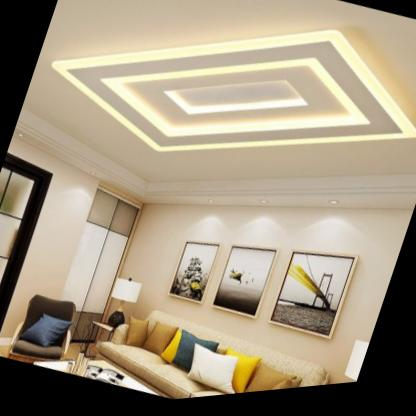Gypsum Board: (0, 0, 416, 310)
